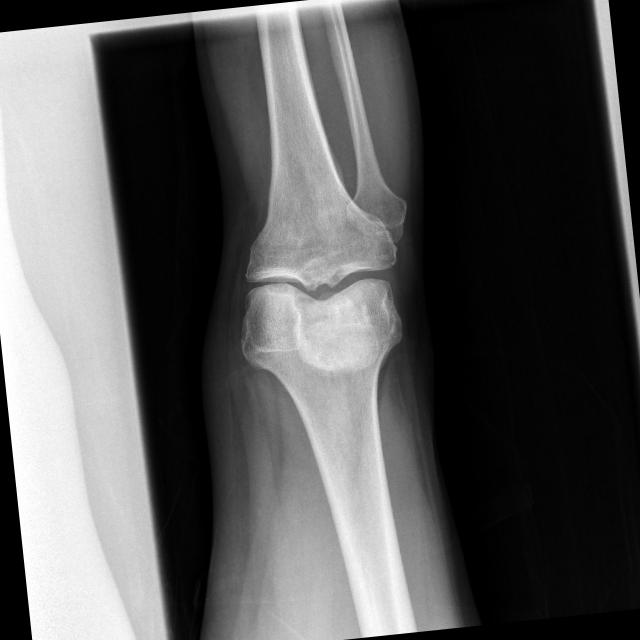Knee: (224, 188, 410, 370)
